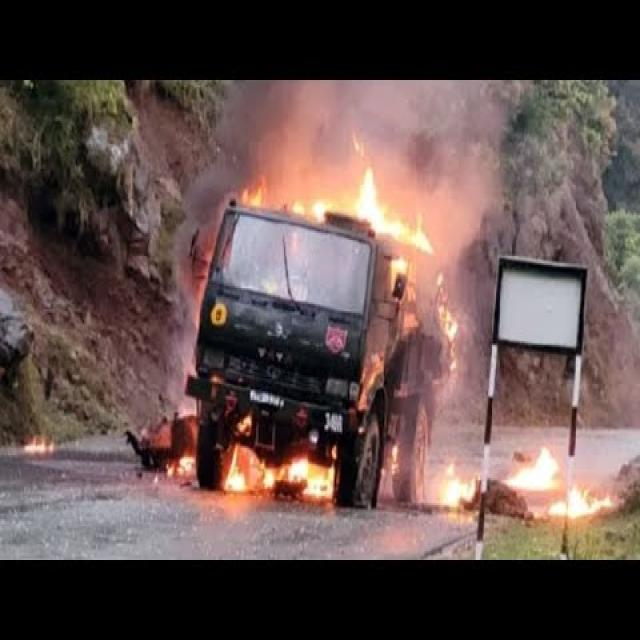accident: (185, 200, 441, 508)
